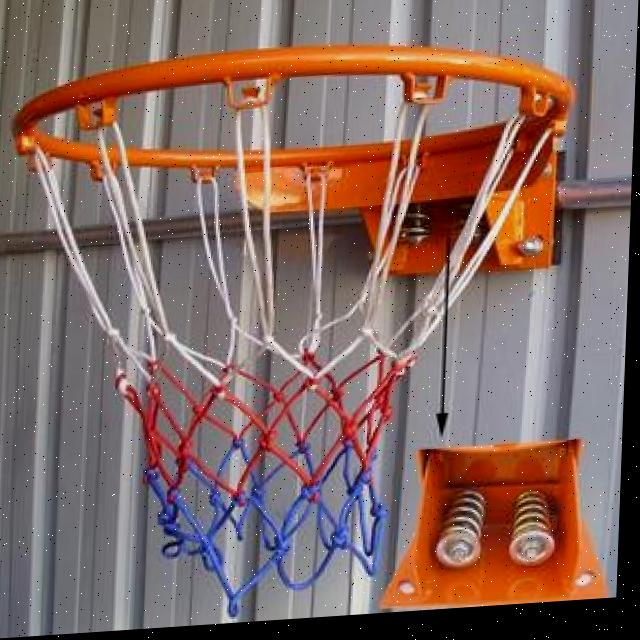hoop: (0, 8, 580, 620)
